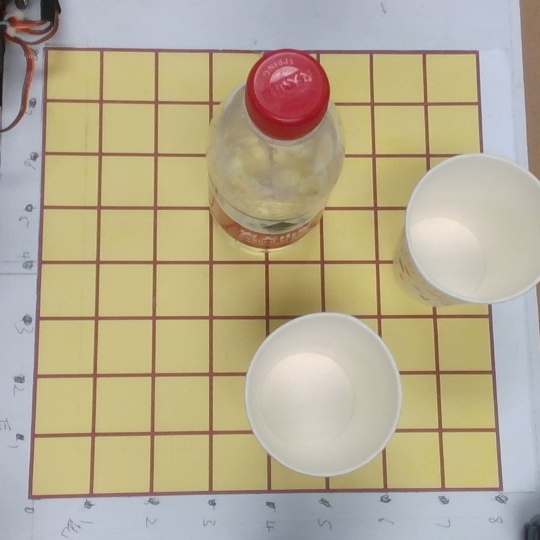bottle: (204, 48, 344, 278)
cup: (224, 309, 402, 478), (376, 154, 540, 318)
